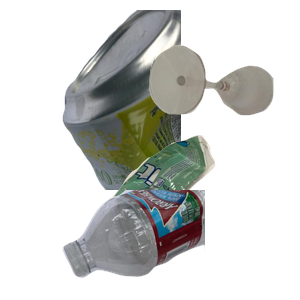glass: (147, 43, 300, 151)
metal: (60, 10, 300, 190)
plastic: (60, 190, 300, 280)
trash: (84, 133, 292, 300)
